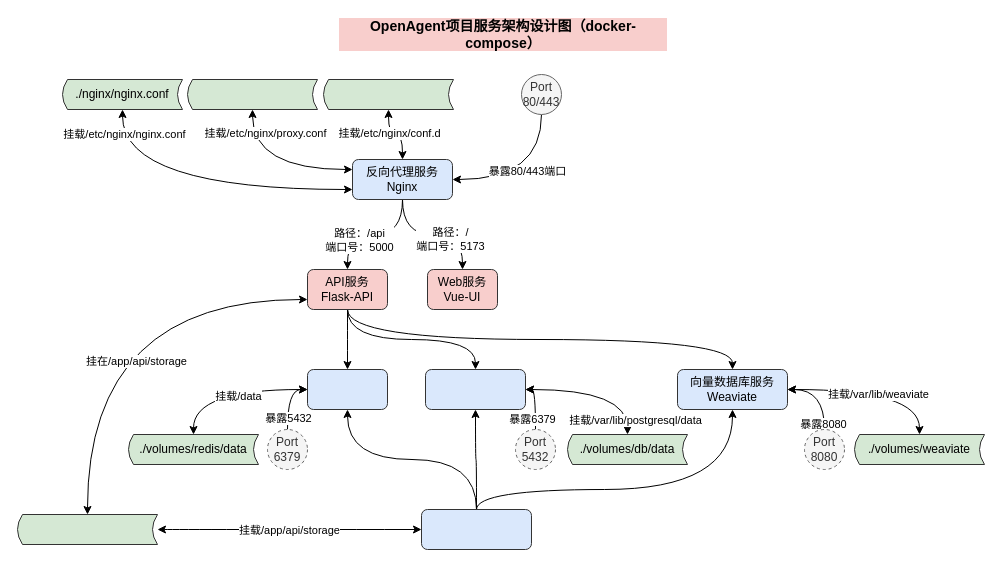
The diagram is 1002 pixels wide and 567 high, and some of its shapes have lost their labels. Each missing label, with the centre of its shape:
"./nginx/conf.d" goes at [388,94].
"./nginx/proxy.conf" goes at [252,94].
"./volumes/app/storage" goes at [87,529].
"DB数据库服务 Postgres" goes at [475,389].
"Worker服务 Celery异步任务" goes at [476,529].
"缓存服务 Redis" goes at [347,389].
